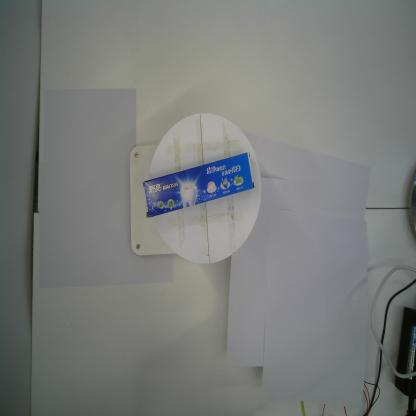Personal Hygiene: (144, 151, 255, 218)
